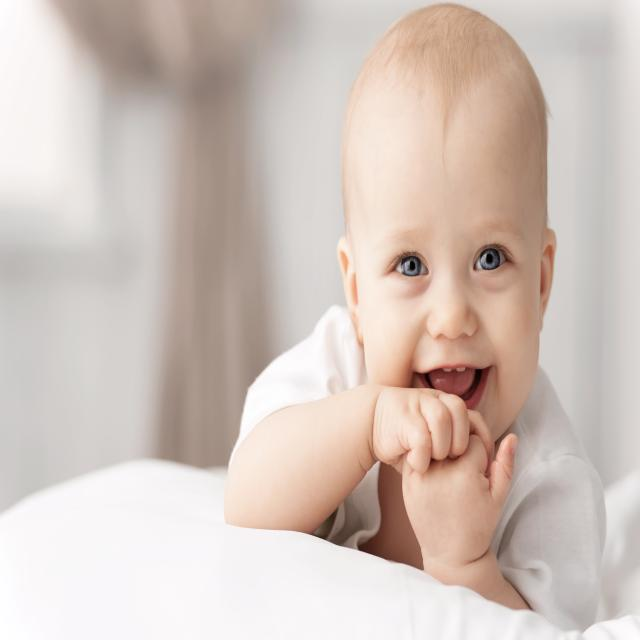child: (225, 5, 604, 640)
